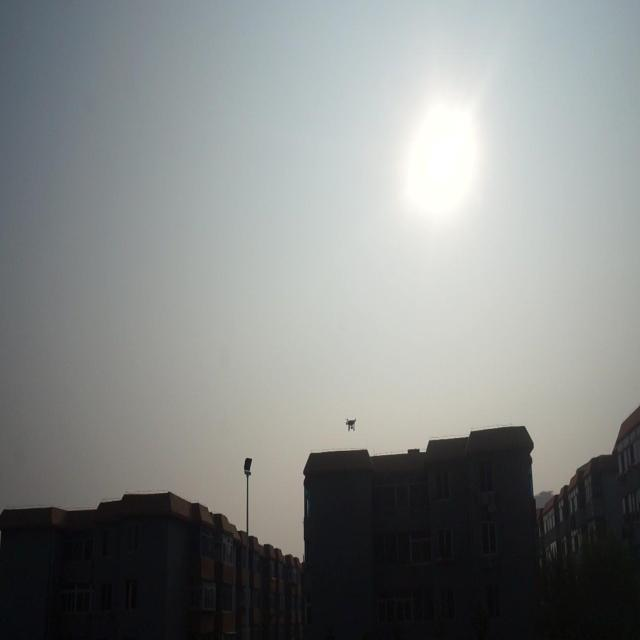drone: (343, 414, 359, 435)
